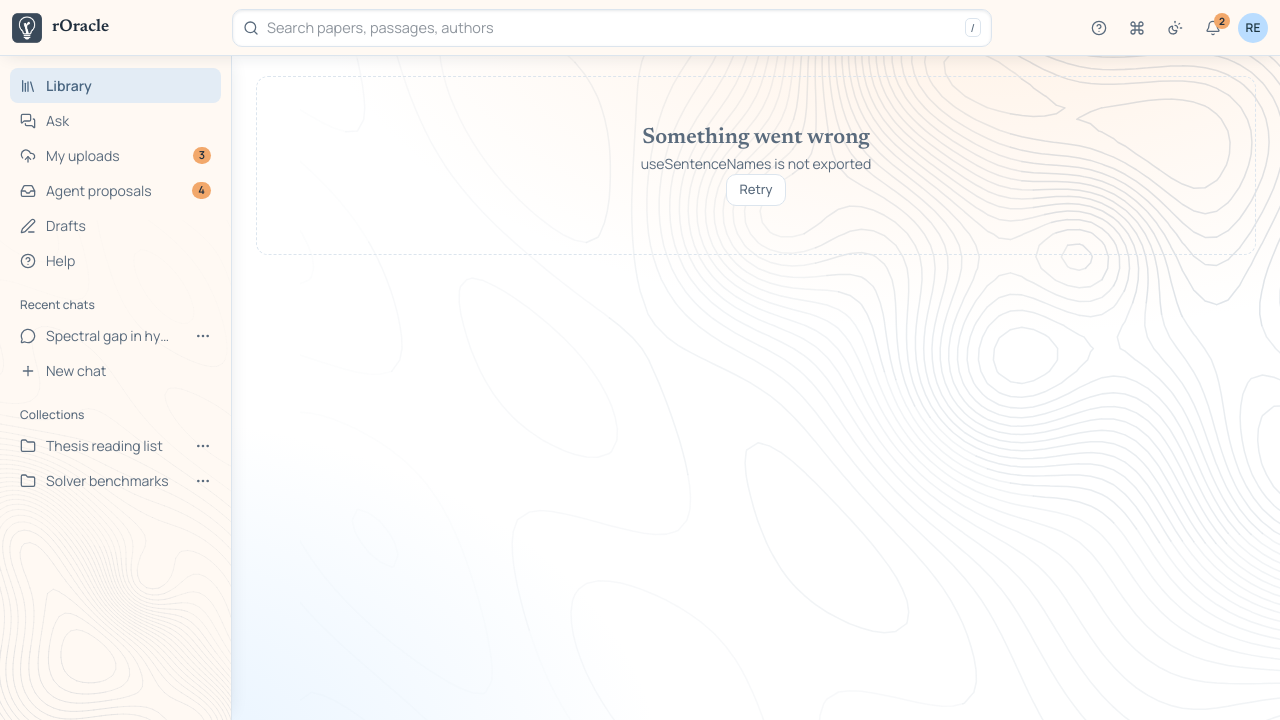
bell › never renders payload strings as HTML
expect the navigation bar named "Main" is shown: met, box [10,68,221,278]
Click the button named "2 unread" at (1213, 28), box [1196,10,1230,44]
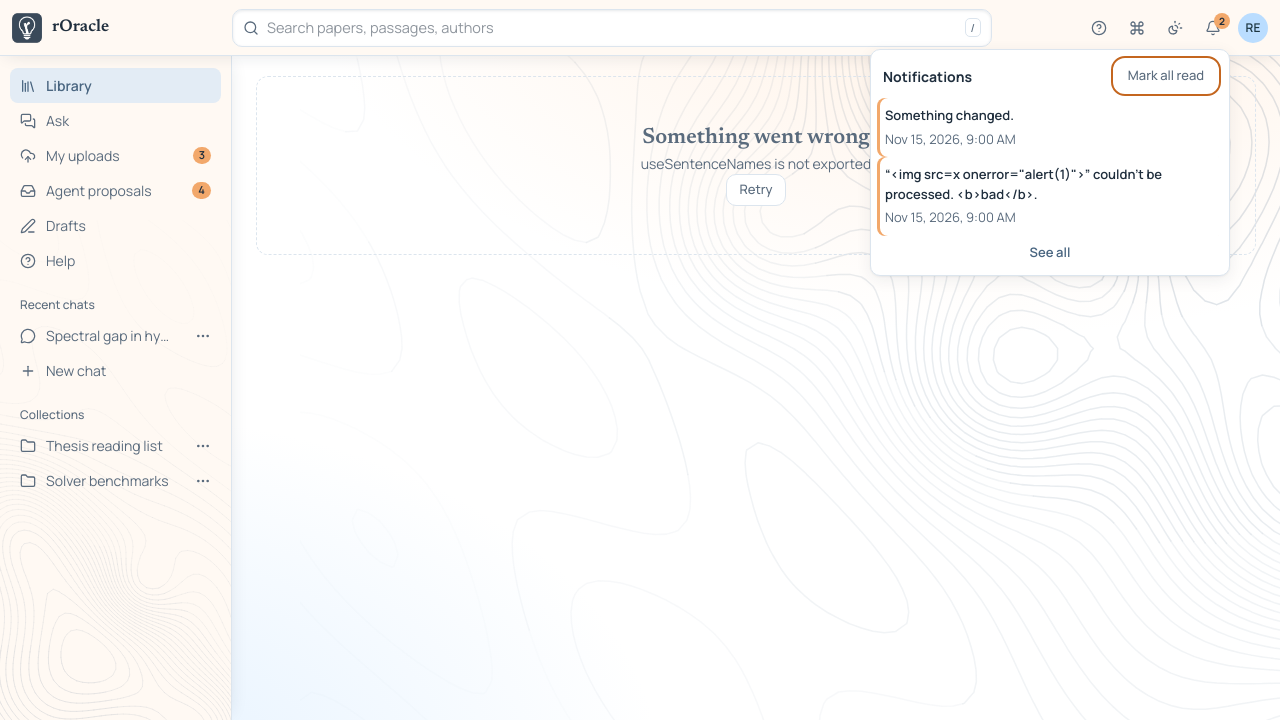
expect the text "<img src=x onerror=\"alert(1)\">" is shown: met, box [885,165,1162,202]
expect the text "Something changed." is shown: met, box [885,106,1014,126]
